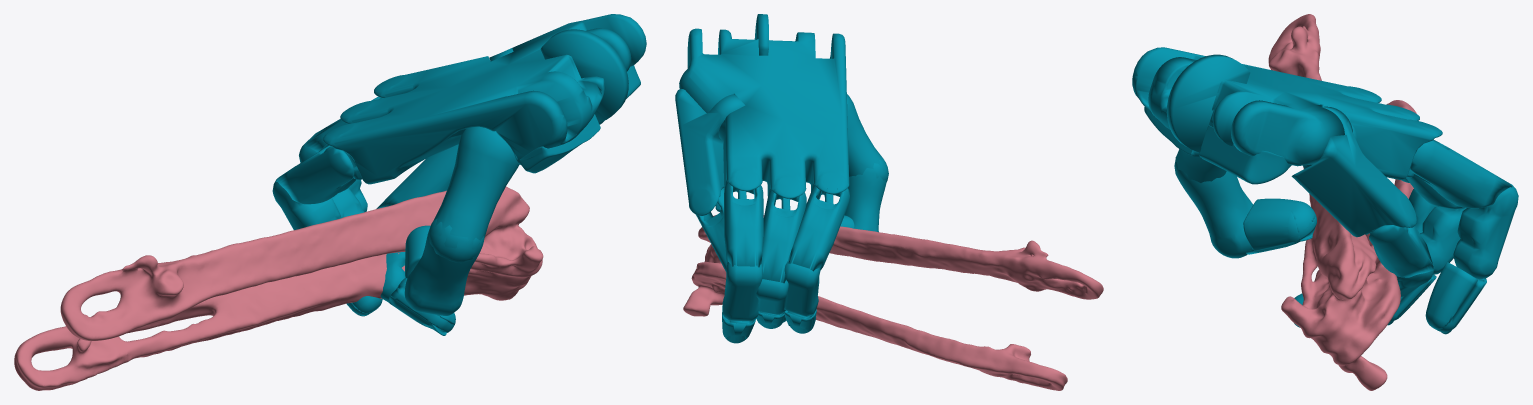
3 views of the same model, side by side, from view 1: azimuth 30°, elevation 25°; view 2: azimuth 150°, elevation 25°; view 3: azimuth 270°, elevation 25° (orthographic). The views are drawn at different scales.
Visible parts, largest first — view 1: world; view 2: world; view 3: world.
Boxes of the visible parts, x1=… form: world: x1=14, y1=14, x2=646, y2=390; world: x1=675, y1=14, x2=1103, y2=390; world: x1=1132, y1=14, x2=1518, y2=390.
Bounding box in the file's own units: 0.2526 × 0.1421 × 0.1513.
